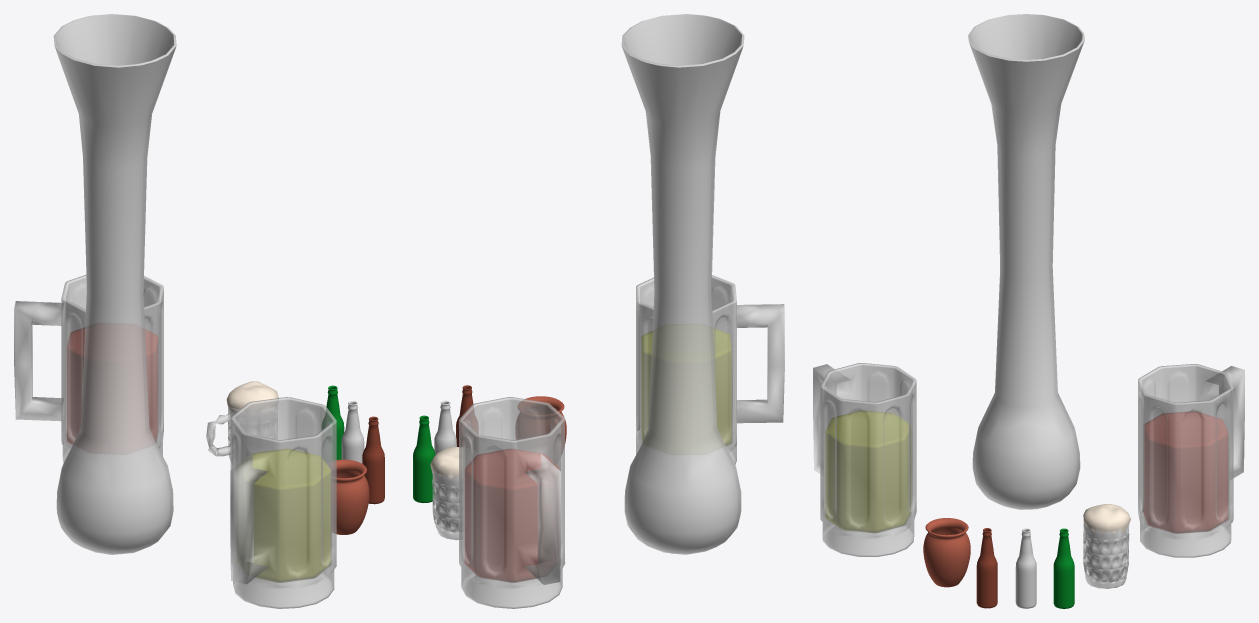
The model's file is menu5.glb.
3 renders of one model, left to right at view 1: azimuth 30°, elevation 25°; view 2: azimuth 150°, elevation 25°; view 3: azimuth 270°, elevation 25°, orthographic. The views are drawn at different scales.
Visible parts, largest first — view 1: yarda, tarro1, tarro2, liquido1, tarro_cerveza, liquido2, cantarito, botella vidrio1, botella vidrio3, botella vidrio2; view 2: yarda, tarro2, tarro1, liquido2, liquido1, tarro_cerveza, cantarito, botella vidrio2, botella vidrio3, botella vidrio1; view 3: yarda, tarro2, tarro1, liquido1, liquido2, tarro_cerveza, cantarito, botella vidrio1, botella vidrio2, botella vidrio3.
Boxes of the visible parts, x1,y1,x2,y2 form: yarda: (53, 14, 176, 554); tarro1: (230, 397, 336, 608); tarro2: (14, 275, 163, 462); liquido1: (253, 449, 330, 581); tarro_cerveza: (206, 381, 278, 466); liquido2: (67, 327, 158, 443); cantarito: (332, 459, 369, 534); botella vidrio1: (362, 416, 384, 504); botella vidrio3: (341, 401, 364, 463); botella vidrio2: (322, 385, 344, 460); yarda: (621, 14, 744, 554); tarro2: (459, 397, 565, 608); tarro1: (636, 275, 784, 464); liquido2: (465, 449, 558, 581); liquido1: (641, 328, 731, 445); tarro_cerveza: (430, 447, 462, 540); cantarito: (515, 396, 566, 454); botella vidrio2: (413, 415, 435, 502); botella vidrio3: (434, 400, 456, 454); botella vidrio1: (456, 385, 478, 446); yarda: (968, 14, 1084, 509); tarro2: (1138, 364, 1244, 557); tarro1: (813, 363, 916, 556); liquido1: (825, 410, 911, 532); liquido2: (1143, 411, 1227, 532); tarro_cerveza: (1083, 504, 1130, 588); cantarito: (923, 518, 970, 587); botella vidrio1: (976, 528, 997, 608); botella vidrio2: (1053, 528, 1074, 608); botella vidrio3: (1015, 528, 1036, 608).
Bounding box in the file's own units: 0.9698 × 1.55 × 1.31.
